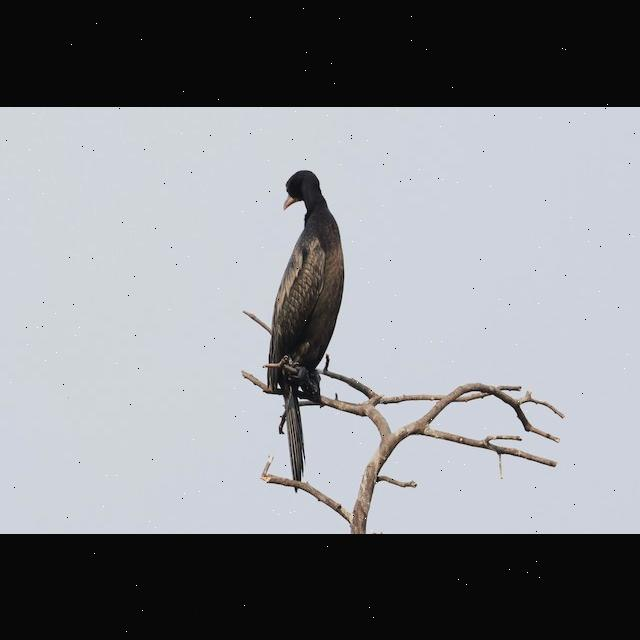cormorant: (266, 163, 346, 492)
